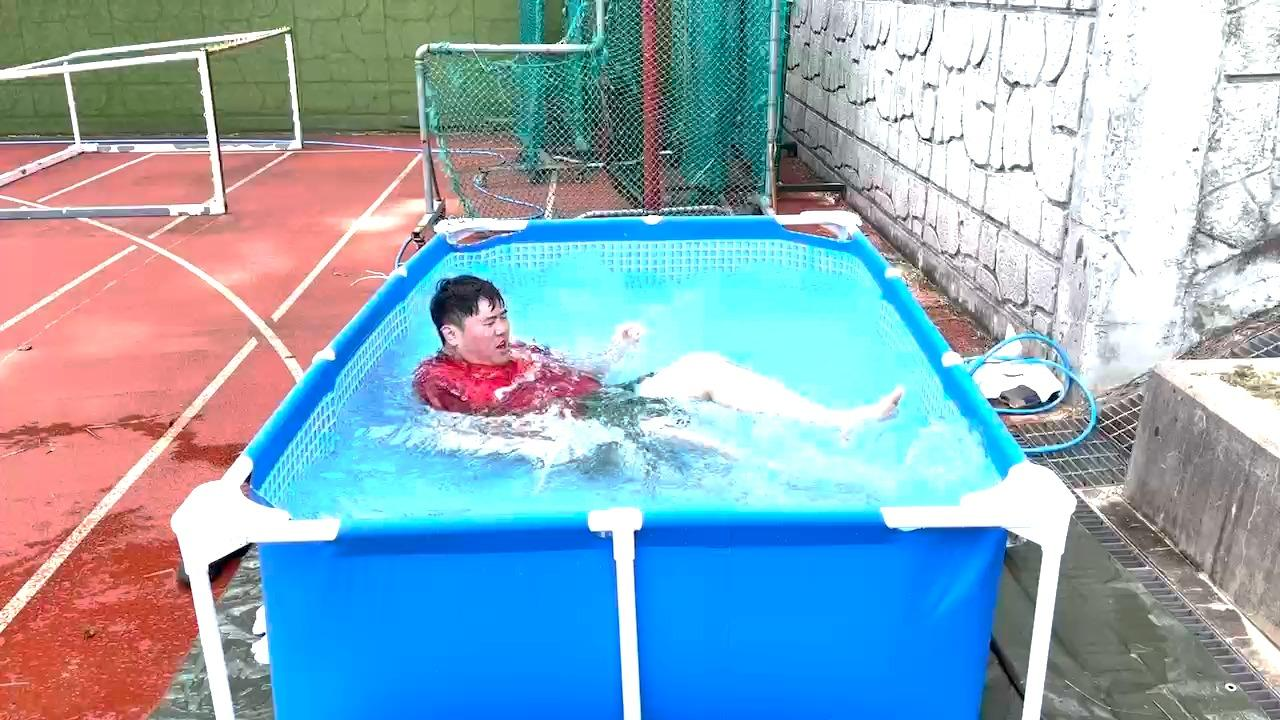Drowning: (427, 271, 907, 485)
